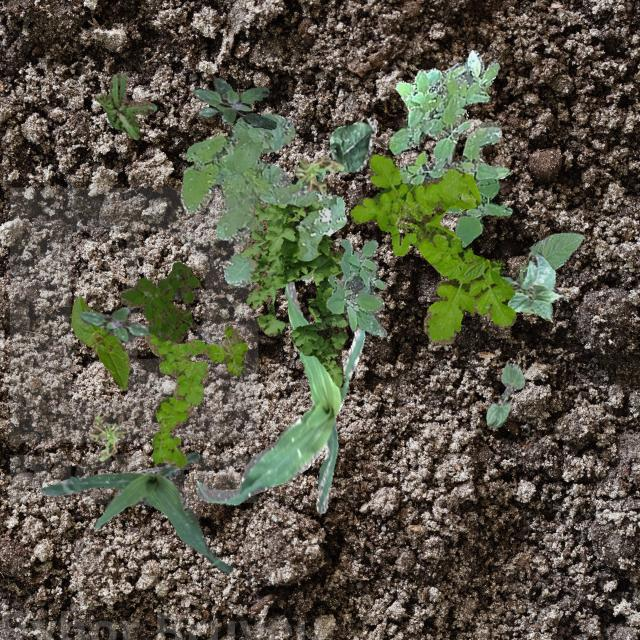crop: (195, 280, 364, 512), (38, 449, 232, 572), (289, 116, 376, 188), (72, 294, 128, 388), (500, 252, 562, 320), (516, 232, 582, 282), (486, 362, 524, 426)
weed: (348, 152, 516, 342), (180, 114, 346, 286), (240, 202, 346, 386), (388, 48, 508, 200), (144, 326, 246, 468), (118, 260, 198, 342), (326, 238, 386, 336), (444, 162, 512, 246), (192, 76, 276, 128), (96, 72, 156, 138), (78, 306, 148, 341), (88, 410, 125, 460), (294, 154, 342, 192)
